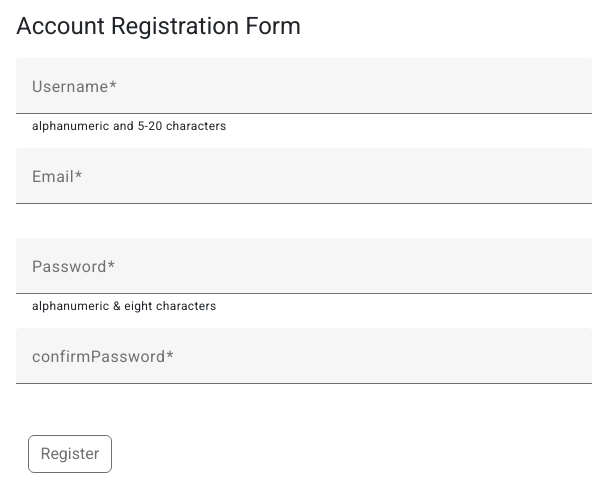
Test case: AccountRegistrationComponent › form completion and submission › username control › should show Username maxlength validation messages when input is maxlength
Step 1. Type "1234567a89123456789123456789" into the field with placeholder "username" → (304, 94), box [32,82,576,106]
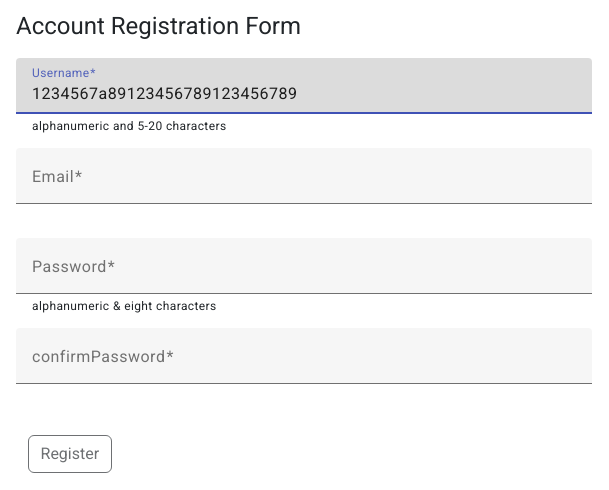
Step 2. Leave the 1st field, box [32,82,576,106]
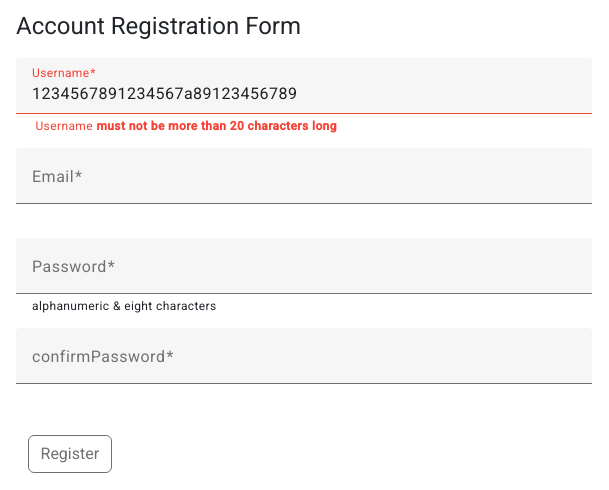
Result: the element showing "Username must not be more than 20 characters long" is shown at [32,119,337,133]
